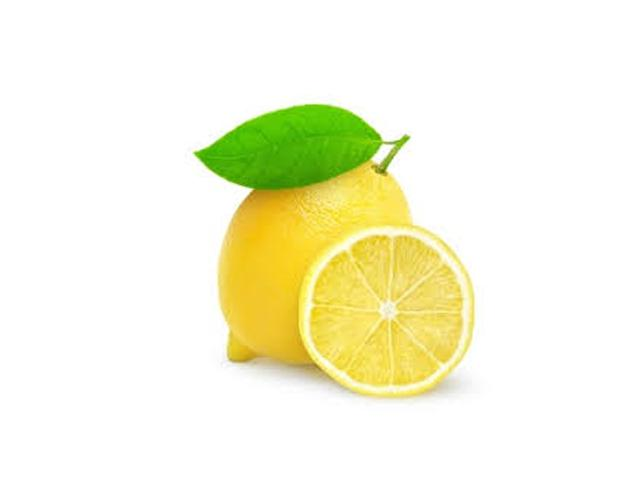lemon: (195, 128, 423, 385)
